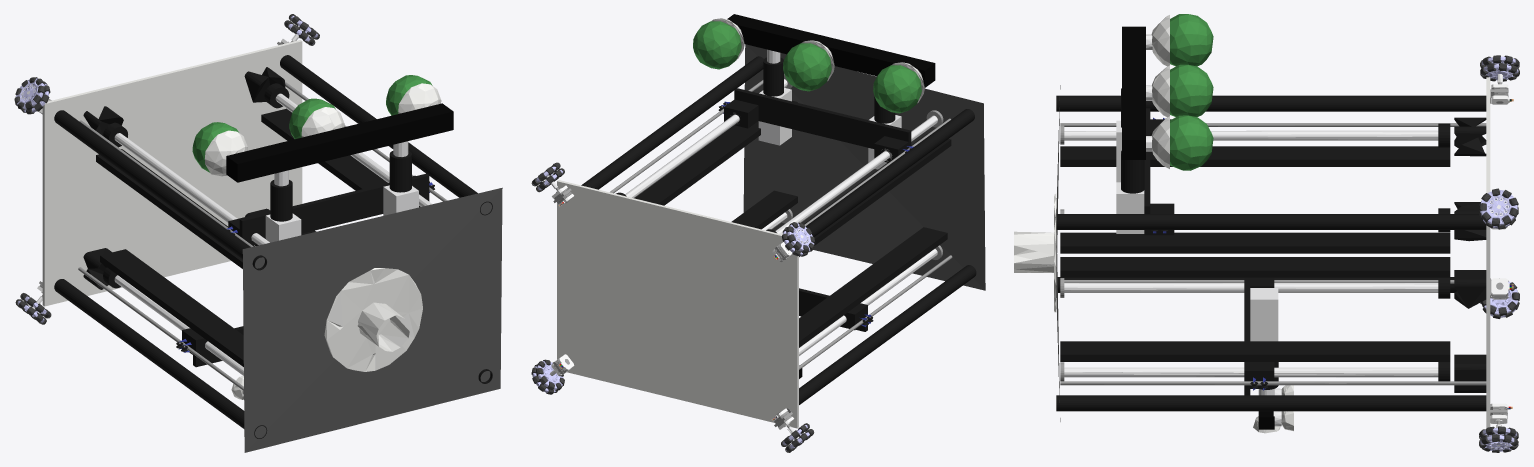
3 views of the same model, side by side, from view 1: azimuth 30°, elevation 25°; view 2: azimuth 150°, elevation 25°; view 3: azimuth 270°, elevation 25° (orthographic). The views are drawn at different scales.
Visible parts, largest first — view 1: body_m3, body_m1, body_m0, body_m5, body_m4, body_m2, body_m6, body_m12, body_m14; view 2: body_m1, body_m0, body_m3, body_m2, body_m4, body_m5, body_m6, body_m12, body_m14, body_m8; view 3: body_m0, body_m4, body_m1, body_m2, body_m6, body_m5, body_m12, body_m14, body_m8.
Boxes of the visible parts, x1,y1,x2,y2 form: body_m3: (242,187,502,452); body_m1: (42,40,441,399); body_m0: (54,55,492,438); body_m5: (226,103,453,182); body_m4: (21,24,432,395); body_m2: (192,75,432,172); body_m6: (38,40,447,390); body_m12: (14,14,319,324); body_m14: (15,16,317,322); body_m1: (557,18,924,428); body_m0: (581,56,976,404); body_m3: (743,44,985,290); body_m2: (693,21,921,113); body_m4: (541,49,937,442); body_m5: (727,14,935,378); body_m6: (553,74,952,427); body_m12: (531,162,815,452); body_m14: (532,166,814,450); body_m8: (551,185,793,429); body_m0: (1056,88,1486,411); body_m4: (1064,34,1508,449); body_m1: (1014,15,1490,433); body_m2: (1170,14,1213,170); body_m6: (1060,82,1508,424); body_m5: (1122,26,1274,429); body_m12: (1479,55,1519,452); body_m14: (1480,56,1518,451); body_m8: (1490,84,1509,423).
Size of the model in its own units: 0.9269 by 0.993 by 1.26.
